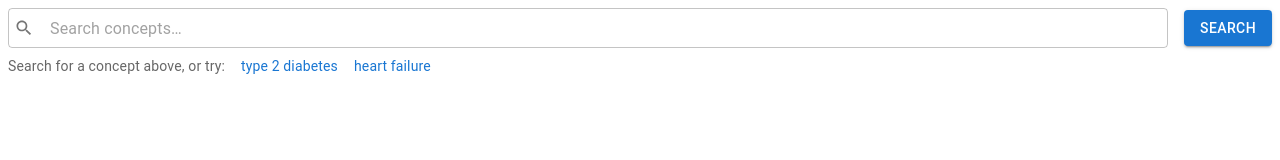
Scenario: Search › selecting a suggestion › fills the input with the label and closes the dropdown
Type "asth" into the dropdown labelled "Search" at (601, 28), box [42,14,1159,42]
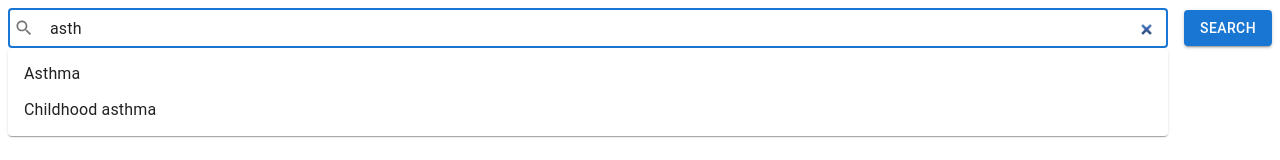
Result: the list is shown at [24,64,156,119]
Click the option "Childhood asthma" at (90, 110), box [24,100,156,119]
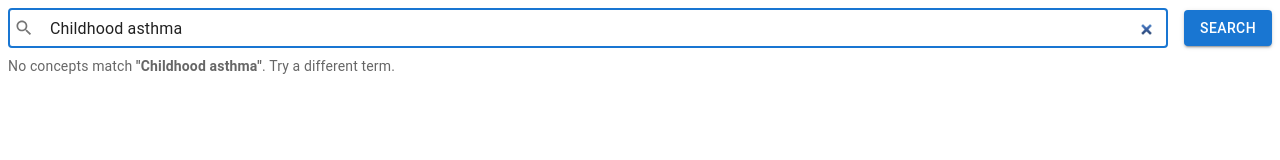
Result: the dropdown named "Search" holds "Childhood asthma" at [42,14,1159,42]
Result: the list is gone
